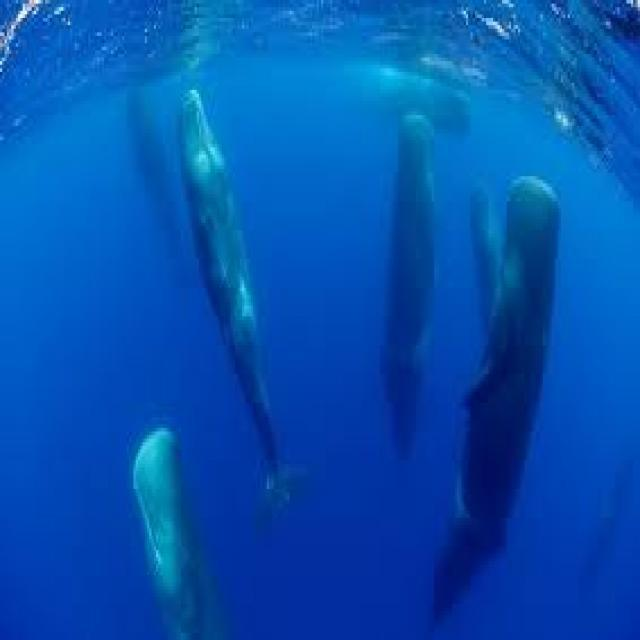blue_whale: (430, 86, 570, 618), (162, 75, 316, 518), (373, 54, 441, 528)
